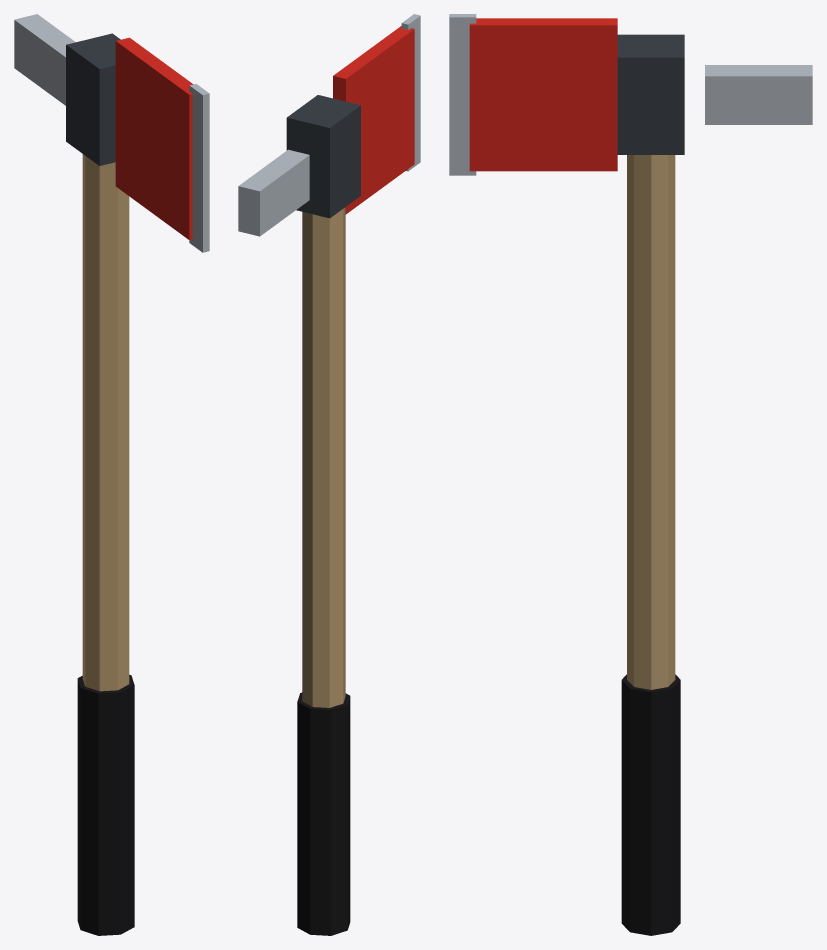
File: Weapon_FireAxe.obj
3 views of the same model, side by side, from view 1: azimuth 30°, elevation 25°; view 2: azimuth 150°, elevation 25°; view 3: azimuth 270°, elevation 25° (orthographic). The views are drawn at different scales.
Parts seen in each view (by area): view 1: HickoryShaft, RubberBottomGrip, CuttingBlade, AxeEye, RearSpikePick, HonedEdge; view 2: HickoryShaft, RubberBottomGrip, CuttingBlade, AxeEye, RearSpikePick, HonedEdge; view 3: HickoryShaft, CuttingBlade, RubberBottomGrip, AxeEye, RearSpikePick, HonedEdge.
Part boxes in pixels (x1=…): HickoryShaft: x1=82, y1=154, x2=129, y2=691; RubberBottomGrip: x1=77, y1=674, x2=134, y2=935; CuttingBlade: x1=115, y1=37, x2=193, y2=240; AxeEye: x1=66, y1=33, x2=120, y2=165; RearSpikePick: x1=14, y1=14, x2=75, y2=105; HonedEdge: x1=189, y1=84, x2=209, y2=252; HickoryShaft: x1=302, y1=207, x2=345, y2=707; RubberBottomGrip: x1=297, y1=692, x2=350, y2=935; CuttingBlade: x1=333, y1=26, x2=414, y2=214; AxeEye: x1=286, y1=95, x2=360, y2=218; RearSpikePick: x1=238, y1=149, x2=309, y2=236; HonedEdge: x1=401, y1=14, x2=420, y2=171; HickoryShaft: x1=627, y1=155, x2=675, y2=689; CuttingBlade: x1=469, y1=18, x2=617, y2=171; RubberBottomGrip: x1=621, y1=674, x2=680, y2=935; AxeEye: x1=617, y1=34, x2=684, y2=154; RearSpikePick: x1=705, y1=65, x2=812, y2=124; HonedEdge: x1=449, y1=14, x2=476, y2=175.
Bounding box in the file's own units: 0.044 × 0.745 × 0.27.
